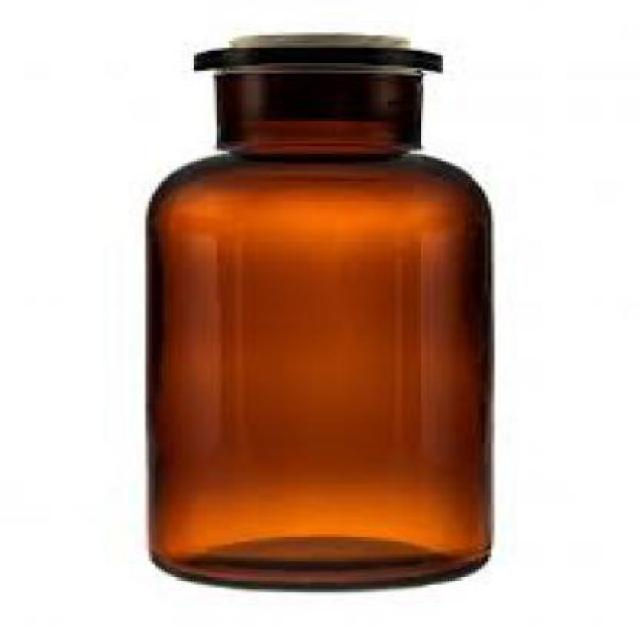kaca: (143, 46, 492, 591)
